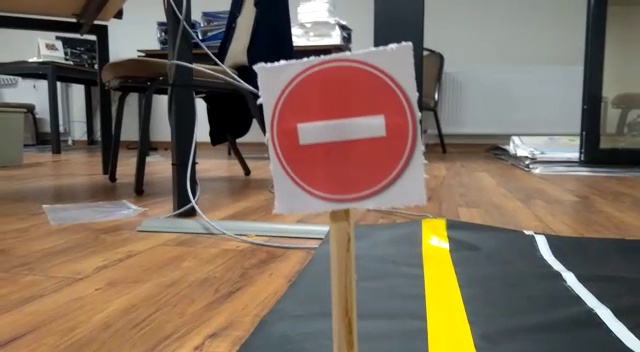girisi_olmayan_yol: (264, 56, 417, 212)
